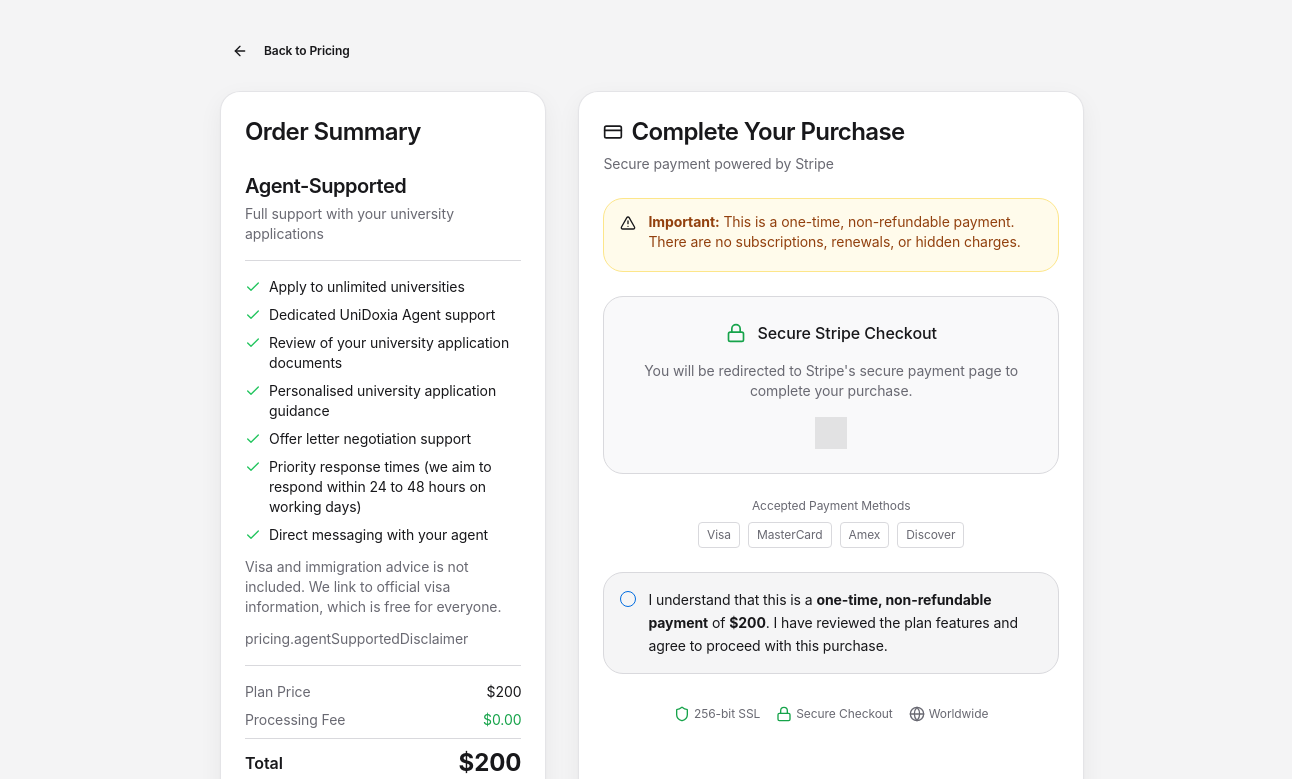
Scenario: checkout failure recovery › keeps a failed payment retryable without claiming success or plan activation
This screenshot has width=1292, height=779.
Later steps or results of the test are not shown.
What coordinates should you click on to do the following:
click the checkbox
I would click on:
 (628, 599)
Its box is [620,591,636,607].
(page scrolled)
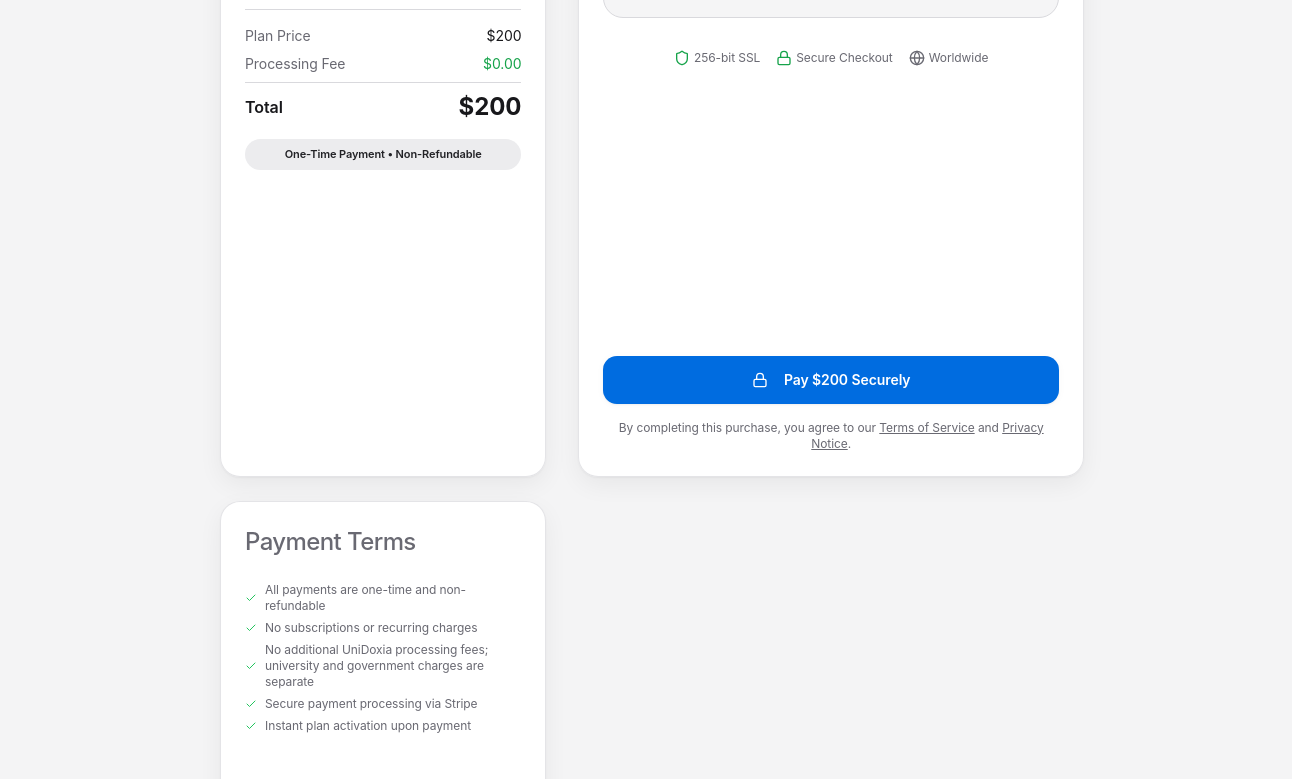
What coordinates should you click on to do the following:
click the button "Pay $200 Securely"
I would click on:
 (831, 380)
Its box is [603,356,1059,404].
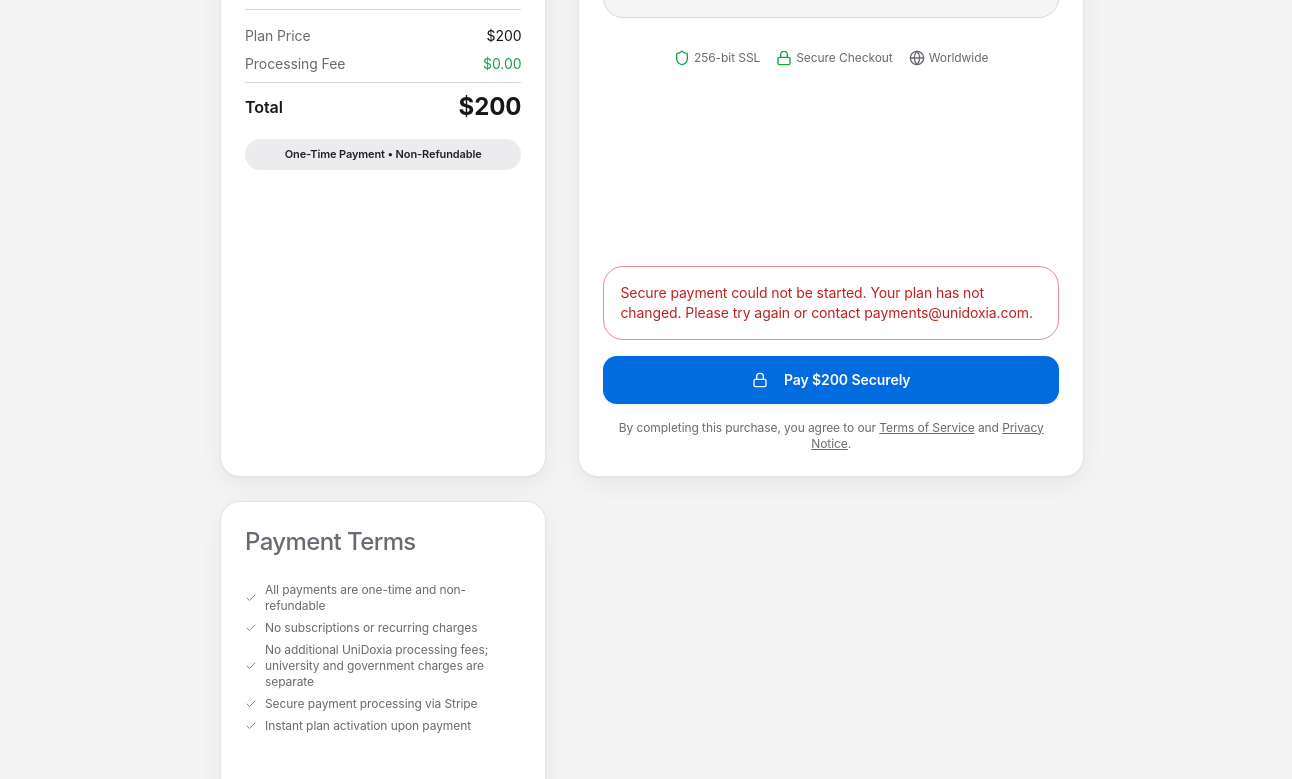
expect the button "Pay $200 Securely" is enabled: met, box [603,356,1059,404]
expect the text "Your plan has not changed" is shown: met, box [620,284,1033,320]
